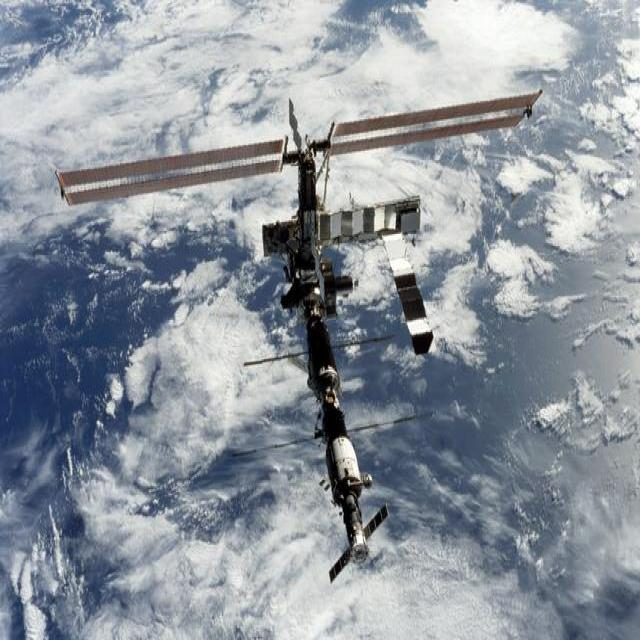medium_debris: (56, 91, 541, 559)
